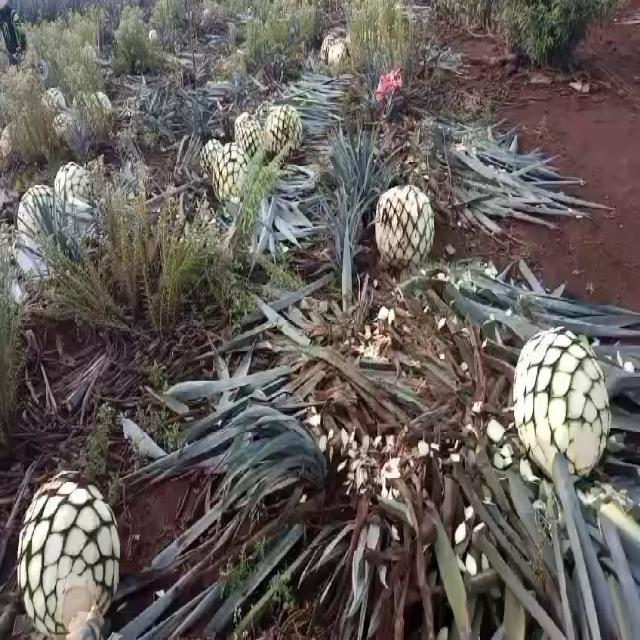agave: (11, 457, 124, 640), (512, 316, 614, 480), (373, 180, 442, 273), (212, 141, 264, 218), (15, 170, 62, 250), (56, 150, 95, 224), (259, 94, 303, 158), (53, 105, 84, 158), (238, 115, 267, 170), (87, 82, 115, 126), (202, 129, 222, 182), (40, 85, 64, 123), (231, 103, 252, 143), (327, 38, 351, 73), (318, 32, 338, 58), (145, 25, 161, 49)
